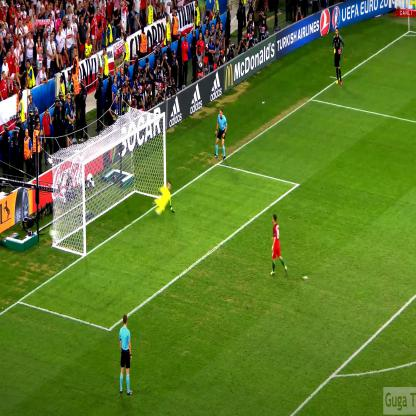goal: (36, 109, 188, 279)
